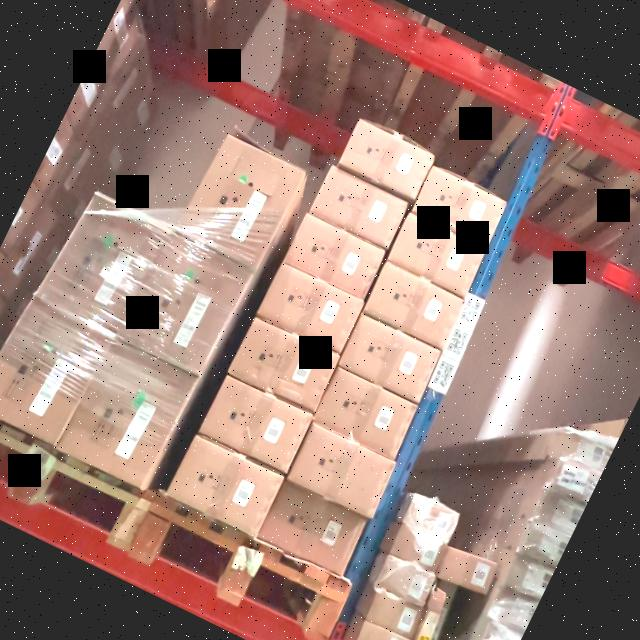box: (60, 342, 197, 490), (120, 233, 250, 374), (40, 194, 168, 334), (180, 133, 306, 267), (0, 297, 109, 446), (166, 436, 284, 536), (198, 376, 312, 473), (227, 317, 337, 412), (258, 481, 368, 575), (286, 425, 394, 518), (360, 262, 468, 352), (257, 264, 362, 354), (314, 368, 418, 458), (340, 314, 442, 402), (410, 166, 511, 250), (284, 216, 384, 300), (388, 215, 487, 298), (338, 120, 434, 202), (309, 166, 406, 247), (398, 582, 461, 640), (436, 544, 498, 598), (387, 524, 447, 576), (364, 589, 424, 640), (377, 556, 437, 607), (402, 492, 461, 543), (516, 519, 570, 571), (546, 456, 600, 506), (531, 489, 585, 538), (502, 555, 552, 602), (488, 586, 538, 632), (350, 621, 410, 640), (472, 619, 520, 640)
